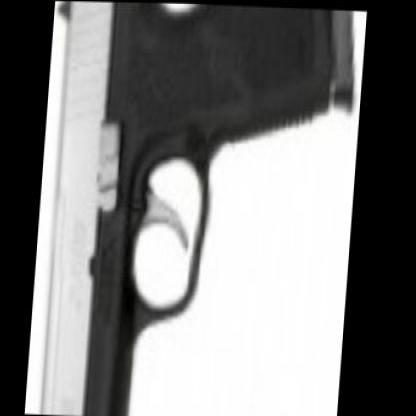pistol: (29, 0, 363, 415)
